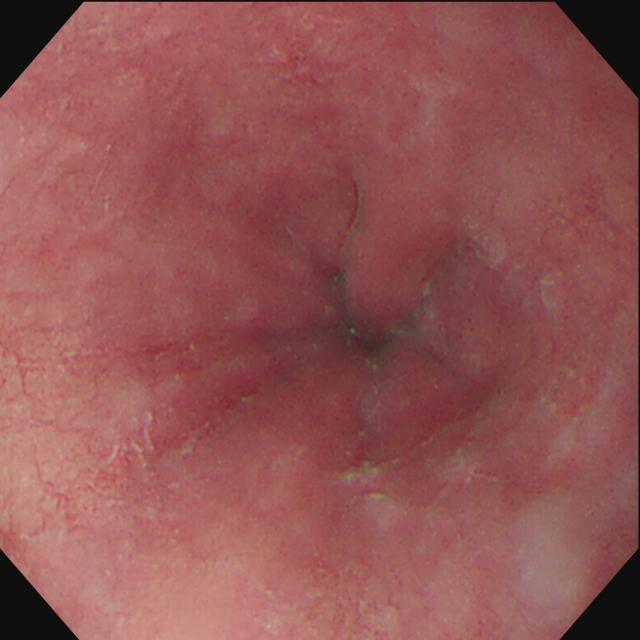I: (244, 166, 492, 455)
J: (107, 411, 156, 470)
